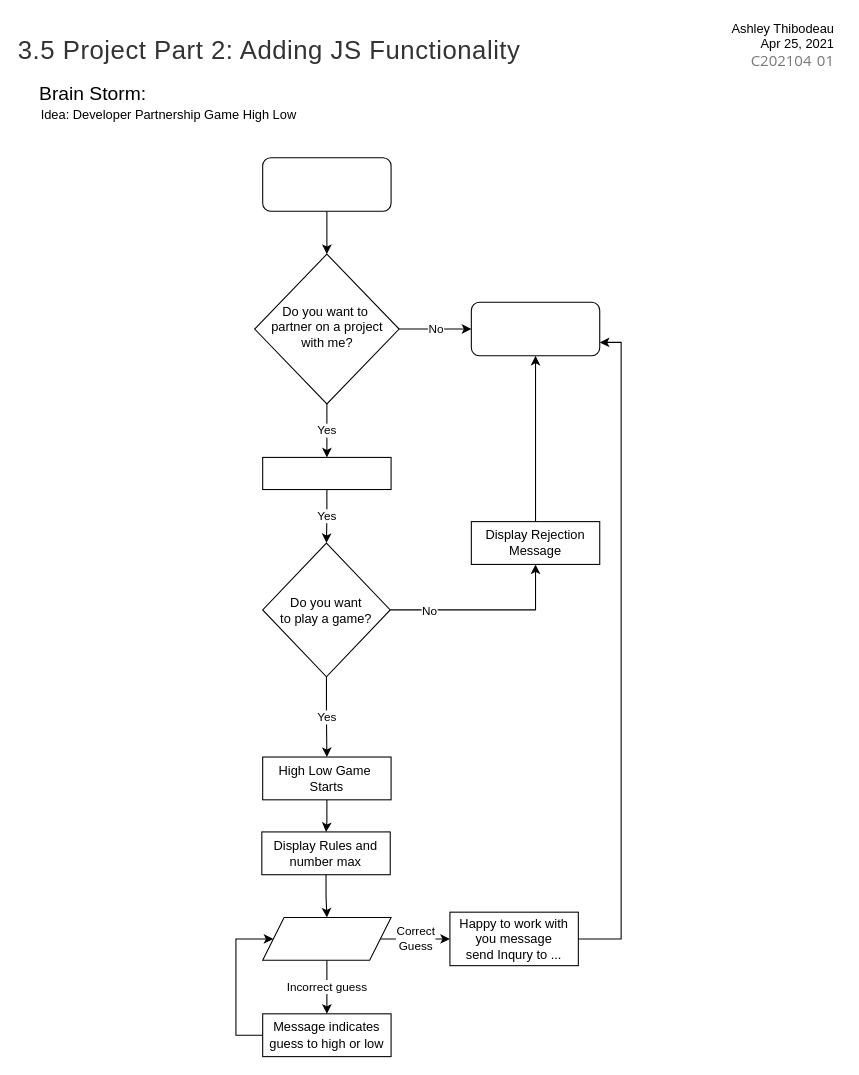
Image size: 859x1075. Some labels were removed from this diagram. Here are the shapes that lost their labels. From the top down, the centre of each, then its label:
point (326, 184): User Opens Webpage
point (535, 328): End Program
point (326, 473): Alert to open console
point (326, 938): User Enters Guess
